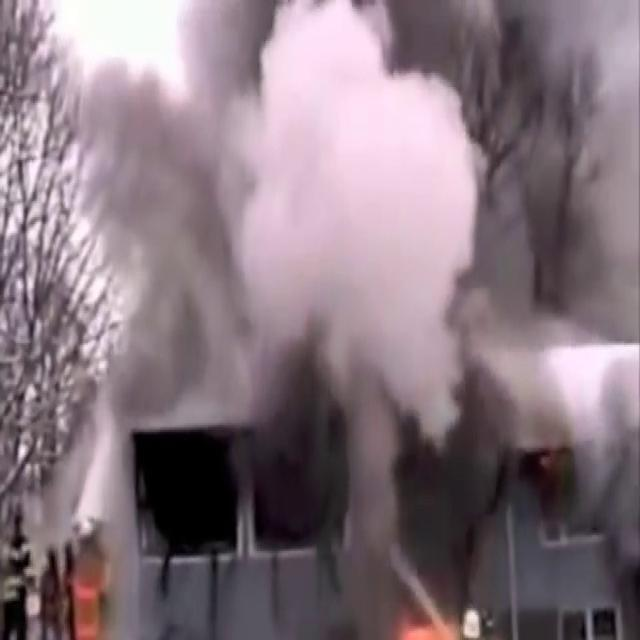Smoke: (54, 0, 500, 626)
